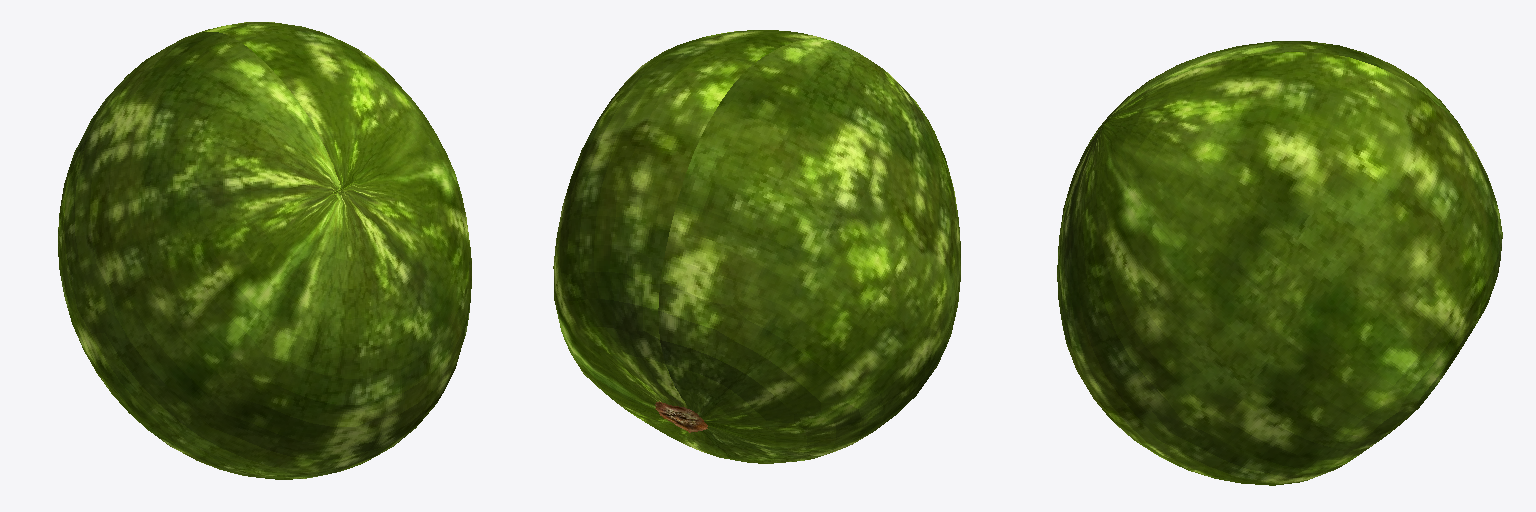
3 renders of one model, left to right at view 1: azimuth 30°, elevation 25°; view 2: azimuth 150°, elevation 25°; view 3: azimuth 270°, elevation 25°, orthographic.
Visible parts, largest first — view 1: Watermelon02; view 2: Watermelon02, Watermelon_Stem02; view 3: Watermelon02.
Boxes of the visible parts, x1=… form: Watermelon02: x1=58, y1=22, x2=471, y2=479; Watermelon02: x1=553, y1=30, x2=960, y2=463; Watermelon_Stem02: x1=655, y1=401, x2=707, y2=432; Watermelon02: x1=1057, y1=41, x2=1502, y2=485.
Size of the model in its own units: 1.33 by 1.55 by 1.53.
2 materials, 2 textured.